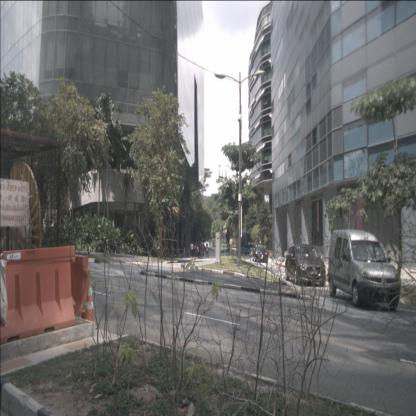human-pedestrian-adult: (190, 242, 194, 257), (202, 242, 205, 257), (193, 243, 196, 258), (206, 243, 209, 258), (196, 244, 199, 257), (199, 245, 202, 258), (194, 244, 197, 257), (197, 246, 200, 258), (206, 243, 208, 258)
movable_object-barrier: (0, 245, 76, 345), (71, 255, 90, 319)
movable_object-trafficcone: (84, 279, 99, 331)
vehicle-bus-rigid: (238, 231, 251, 256)
vehicle-car: (328, 229, 400, 310), (285, 245, 326, 287), (252, 244, 268, 263)
